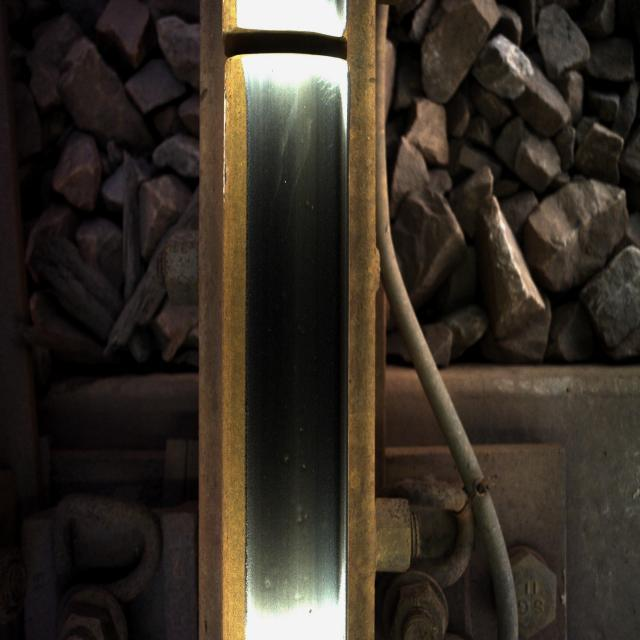spalling: (204, 0, 385, 100)
